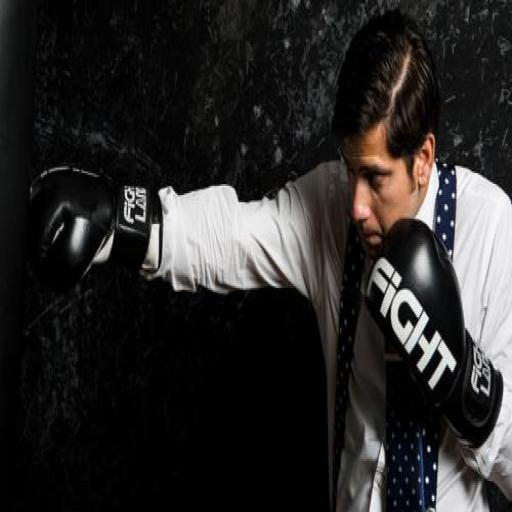boxing: (27, 7, 511, 510)
